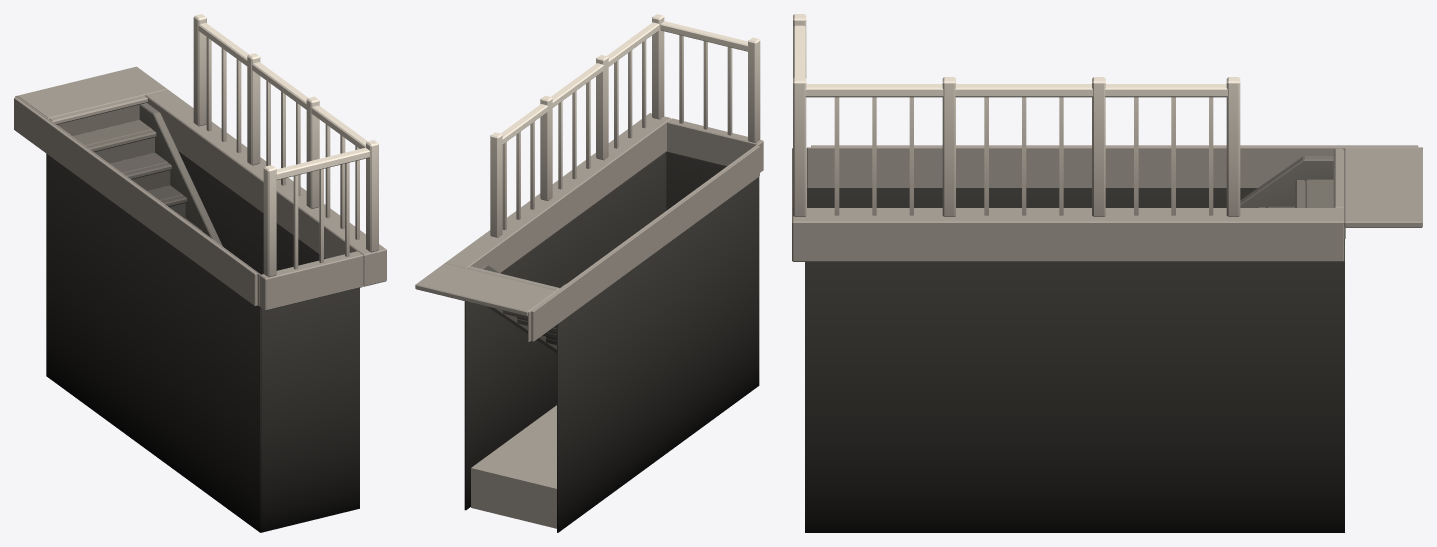
File: SM_VKI_Stair_Down_150x450_RailR.fbx
3 renders of one model, left to right at view 1: azimuth 30°, elevation 25°; view 2: azimuth 150°, elevation 25°; view 3: azimuth 270°, elevation 25°, orthographic. The views are drawn at different scales.
Visible parts, largest first — view 1: SM_VKI_Stair_Down_150x450_RailR.001; view 2: SM_VKI_Stair_Down_150x450_RailR.001; view 3: SM_VKI_Stair_Down_150x450_RailR.001.
Part boxes in pixels (x1,y1,x2,y2): SM_VKI_Stair_Down_150x450_RailR.001: (14,14,386,532); SM_VKI_Stair_Down_150x450_RailR.001: (415,14,763,532); SM_VKI_Stair_Down_150x450_RailR.001: (792,14,1422,532).
Size of the model in its own units: 1.21 by 3.4 by 4.22.
